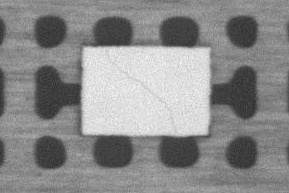DIE_CRACK: (104, 49, 173, 127)
